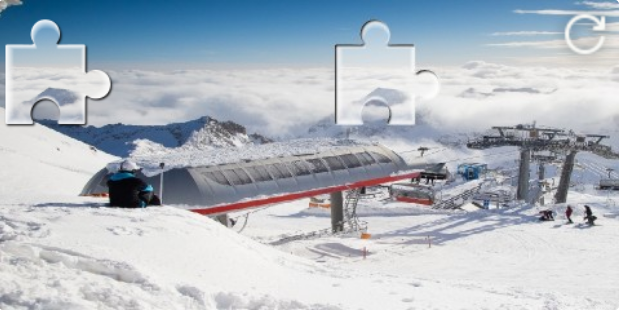target: (335, 20, 439, 125)
